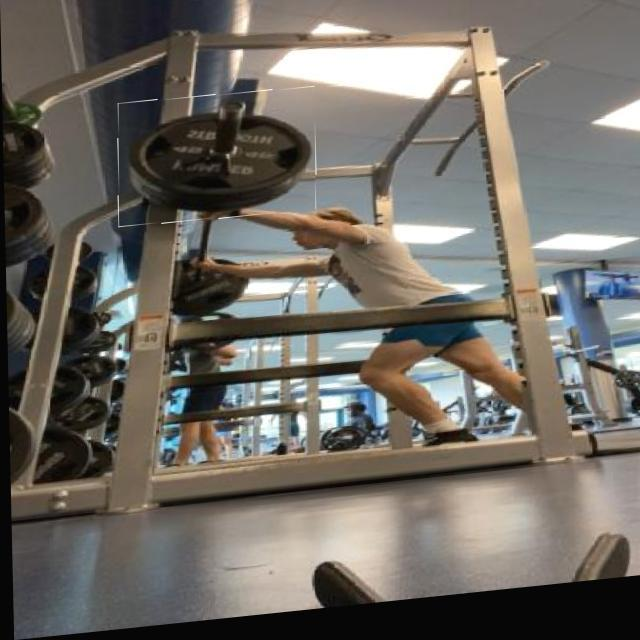barbell: (117, 92, 317, 232)
